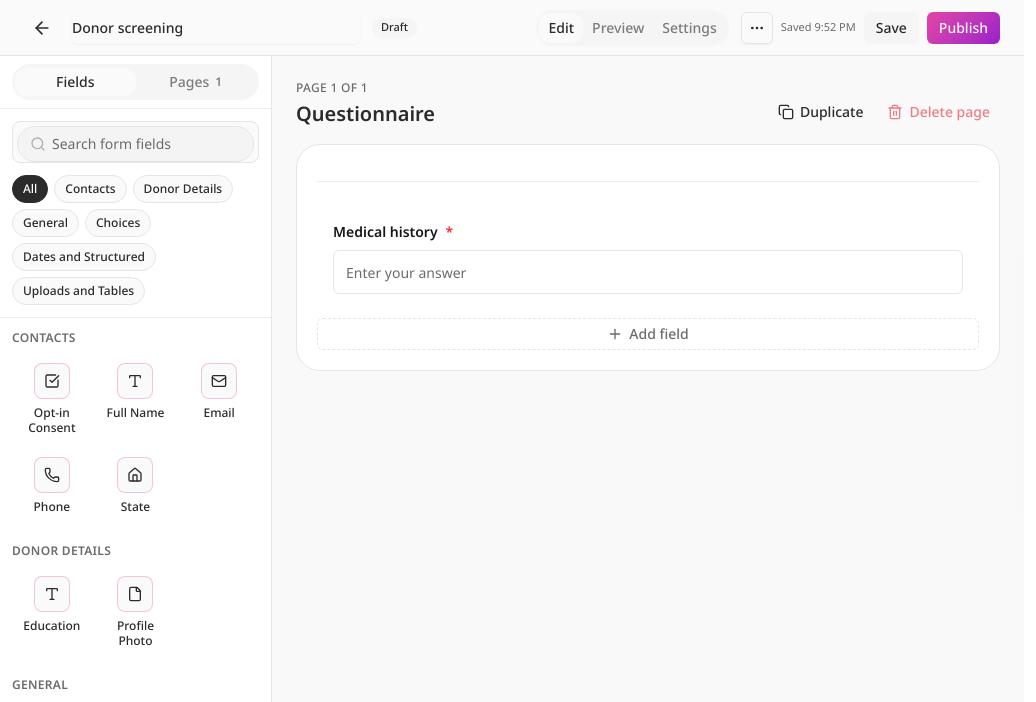
Test: PlatformFormTemplatePage › saves donor data classification from the field editor
Click the button named "Select Medical history field" at (648, 258), box [319,208,977,308]
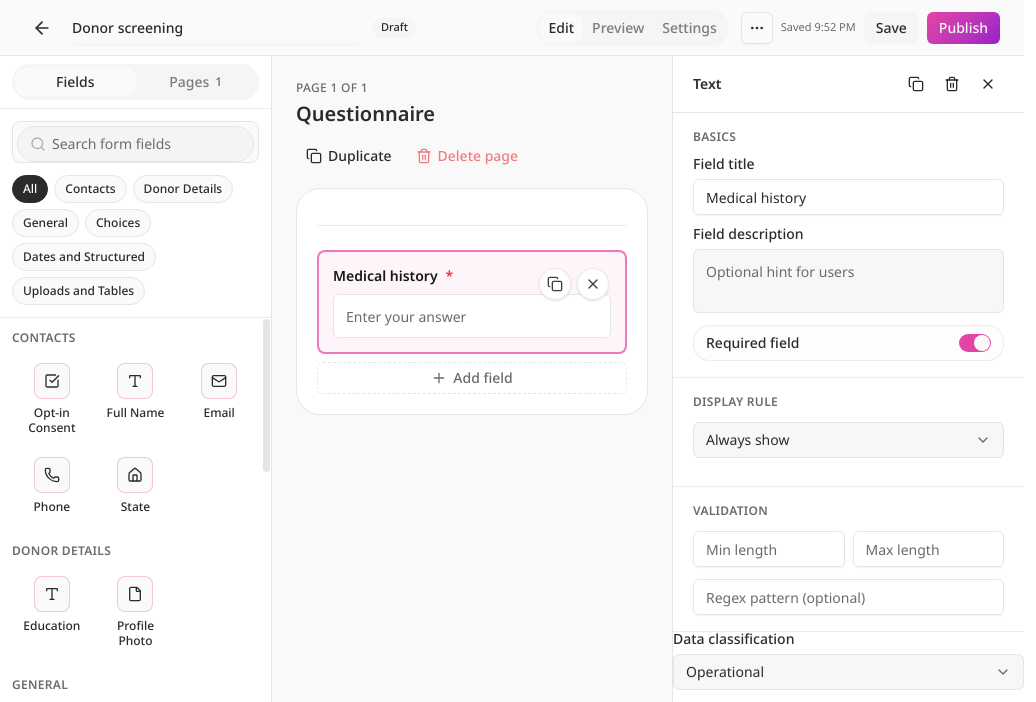
Press the mouse on the dropdown named "Data classification" at (725, 672), box [673,654,1024,690]
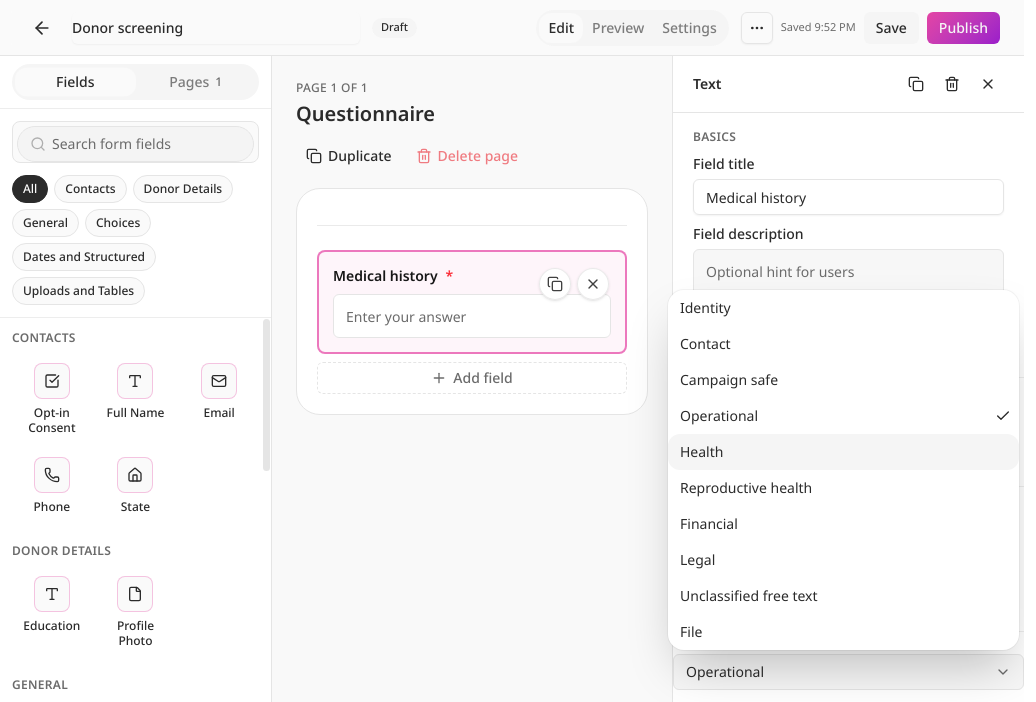
Click the option "Health" at (702, 452), box [668,434,1019,470]
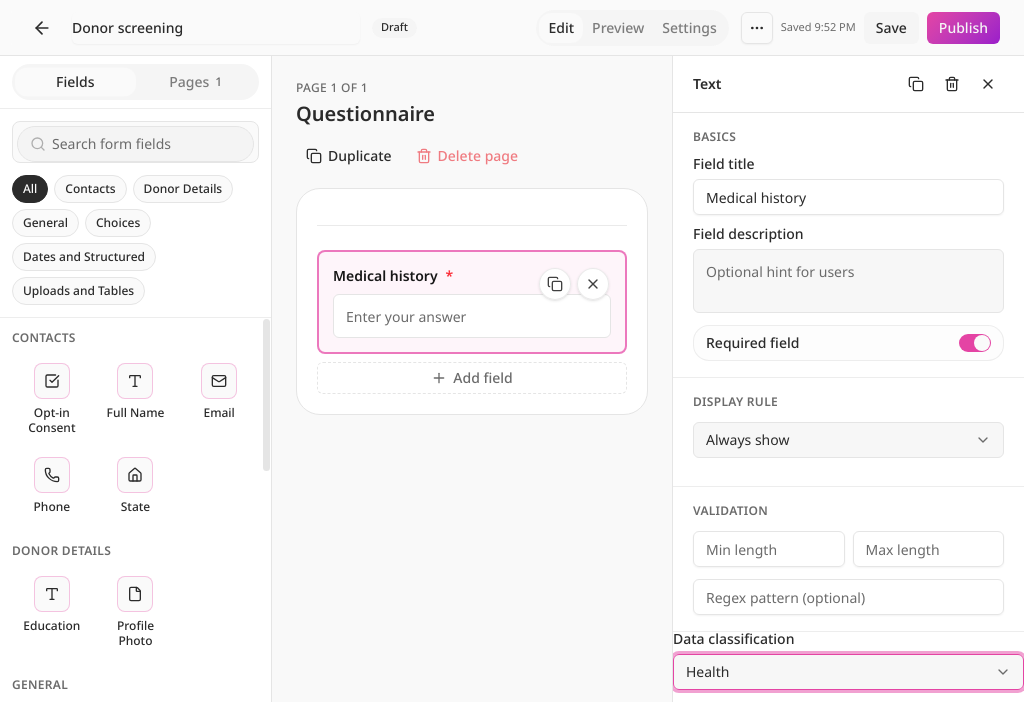
Result: the dropdown named "Data classification" shows "Health" at [673,654,1024,690]
